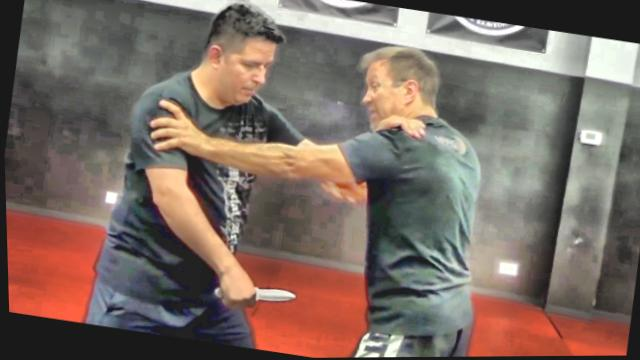knife: (205, 273, 300, 318)
